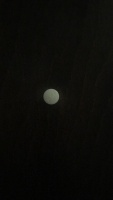Parol: (42, 88, 60, 106)
